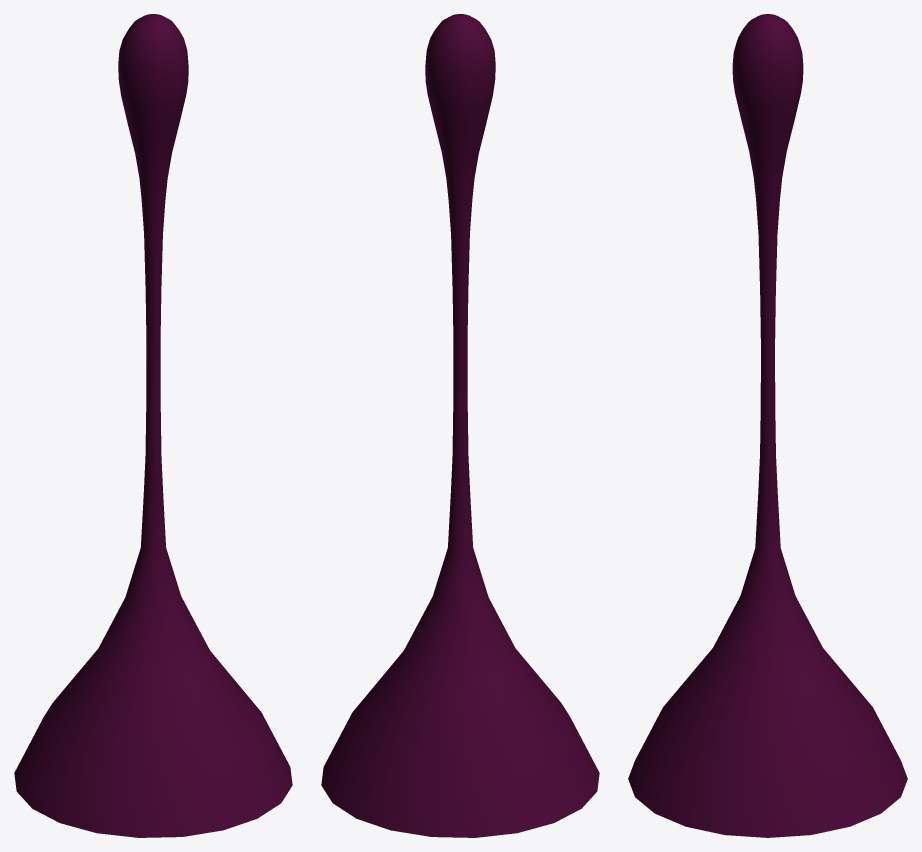
File: Steel_07.fbx
3 renders of one model, left to right at view 1: azimuth 30°, elevation 25°; view 2: azimuth 150°, elevation 25°; view 3: azimuth 270°, elevation 25°, orthographic.
Parts seen in each view (by area): view 1: pCylinder4; view 2: pCylinder4; view 3: pCylinder4.
Boxes of the visible parts, x1=… form: pCylinder4: x1=14, y1=14, x2=292, y2=837; pCylinder4: x1=321, y1=14, x2=599, y2=837; pCylinder4: x1=628, y1=14, x2=907, y2=837.
Bounding box in the file's own units: 2.25 × 6.77 × 2.25.
